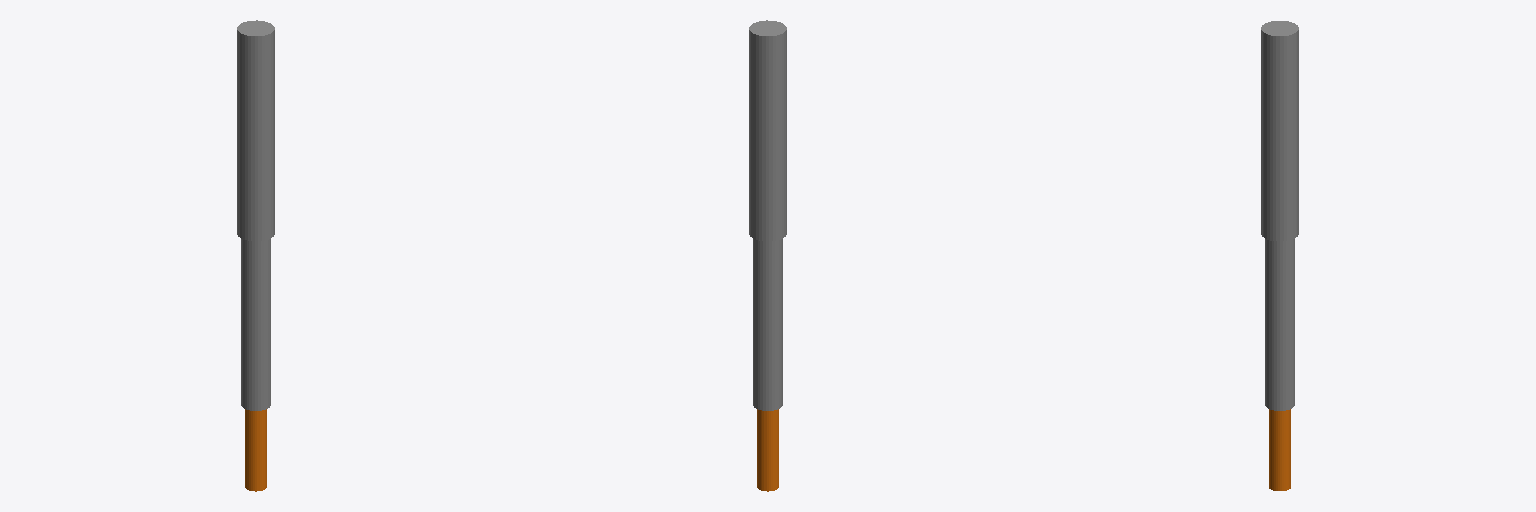
robot.urdf — upper_arm:
<?xml version="1.0"?>
<!--
  7-DOF single-arm kinematic model matching the hardware spec in CLAUDE.md section 2/4:
    shoulder_pitch, shoulder_roll  -> AK45 x2 (어깨 앞뒤/펼침)
    elbow                          -> AK45 x1 (팔꿈치)
    upper_arm_roll                -> MG996R x1 (상완 회전)
    wrist_yaw, wrist_pitch, wrist_roll -> MG996R x3 (손목 3축)
  Used by arm/ik.py via ikpy for inverse kinematics. Link lengths are placeholders
  until real arm dimensions are finalized by the 기구 설계 team.
  This chain is intentionally arm-only (7 joints): the 3-finger gripper exists only in
  arm/arm.xml (qpos[7:13]) and is driven by mujoco_receiver.py, not by IK.
-->
<robot name="upper_arm">

  <material name="grey">
    <color rgba="0.6 0.6 0.6 1"/>
  </material>
  <material name="orange">
    <color rgba="0.9 0.5 0.1 1"/>
  </material>

  <link name="base_link">
    <inertial>
      <mass value="0.5"/>
      <inertia ixx="0.001" ixy="0" ixz="0" iyy="0.001" iyz="0" izz="0.001"/>
    </inertial>
  </link>

  <link name="shoulder_pitch_link">
    <inertial>
      <mass value="0.1"/>
      <inertia ixx="0.0005" ixy="0" ixz="0" iyy="0.0005" iyz="0" izz="0.0005"/>
    </inertial>
  </link>
  <joint name="shoulder_pitch" type="revolute">
    <parent link="base_link"/>
    <child link="shoulder_pitch_link"/>
    <origin xyz="0 0 0" rpy="0 0 0"/>
    <axis xyz="0 1 0"/>
    <limit lower="-1.5708" upper="1.5708" effort="10" velocity="3"/>
  </joint>

  <link name="shoulder_roll_link">
    <inertial>
      <mass value="0.1"/>
      <inertia ixx="0.0005" ixy="0" ixz="0" iyy="0.0005" iyz="0" izz="0.0005"/>
    </inertial>
  </link>
  <joint name="shoulder_roll" type="revolute">
    <parent link="shoulder_pitch_link"/>
    <child link="shoulder_roll_link"/>
    <origin xyz="0 0 0" rpy="0 0 0"/>
    <axis xyz="1 0 0"/>
    <limit lower="-0.2" upper="1.8" effort="10" velocity="3"/>
  </joint>

  <link name="upper_arm_link">
    <visual>
      <origin xyz="0 0 -0.15" rpy="0 0 0"/>
      <geometry><cylinder radius="0.025" length="0.30"/></geometry>
      <material name="grey"/>
    </visual>
    <inertial>
      <mass value="0.3"/>
      <inertia ixx="0.003" ixy="0" ixz="0" iyy="0.003" iyz="0" izz="0.0005"/>
    </inertial>
  </link>
  <joint name="upper_arm_roll" type="revolute">
    <parent link="shoulder_roll_link"/>
    <child link="upper_arm_link"/>
    <origin xyz="0 0 0" rpy="0 0 0"/>
    <axis xyz="0 0 1"/>
    <limit lower="-3.1416" upper="3.1416" effort="10" velocity="3"/>
  </joint>

  <link name="forearm_link">
    <visual>
      <origin xyz="0 0 -0.125" rpy="0 0 0"/>
      <geometry><cylinder radius="0.02" length="0.25"/></geometry>
      <material name="grey"/>
    </visual>
    <inertial>
      <mass value="0.2"/>
      <inertia ixx="0.002" ixy="0" ixz="0" iyy="0.002" iyz="0" izz="0.0003"/>
    </inertial>
  </link>
  <joint name="elbow" type="revolute">
    <parent link="upper_arm_link"/>
    <child link="forearm_link"/>
    <origin xyz="0 0 -0.30" rpy="0 0 0"/>
    <axis xyz="0 1 0"/>
    <limit lower="0" upper="2.4435" effort="10" velocity="3"/>
  </joint>

  <link name="wrist_yaw_link">
    <inertial>
      <mass value="0.05"/>
      <inertia ixx="0.0002" ixy="0" ixz="0" iyy="0.0002" iyz="0" izz="0.0002"/>
    </inertial>
  </link>
  <joint name="wrist_yaw" type="revolute">
    <parent link="forearm_link"/>
    <child link="wrist_yaw_link"/>
    <origin xyz="0 0 -0.25" rpy="0 0 0"/>
    <axis xyz="0 0 1"/>
    <limit lower="-1.5708" upper="1.5708" effort="5" velocity="3"/>
  </joint>

  <link name="wrist_pitch_link">
    <inertial>
      <mass value="0.05"/>
      <inertia ixx="0.0002" ixy="0" ixz="0" iyy="0.0002" iyz="0" izz="0.0002"/>
    </inertial>
  </link>
  <joint name="wrist_pitch" type="revolute">
    <parent link="wrist_yaw_link"/>
    <child link="wrist_pitch_link"/>
    <origin xyz="0 0 0" rpy="0 0 0"/>
    <axis xyz="0 1 0"/>
    <limit lower="-1.5708" upper="1.5708" effort="5" velocity="3"/>
  </joint>

  <link name="wrist_roll_link">
    <visual>
      <origin xyz="0 0 -0.06" rpy="0 0 0"/>
      <geometry><cylinder radius="0.015" length="0.12"/></geometry>
      <material name="orange"/>
    </visual>
    <inertial>
      <mass value="0.05"/>
      <inertia ixx="0.0001" ixy="0" ixz="0" iyy="0.0001" iyz="0" izz="0.0001"/>
    </inertial>
  </link>
  <joint name="wrist_roll" type="revolute">
    <parent link="wrist_pitch_link"/>
    <child link="wrist_roll_link"/>
    <origin xyz="0 0 0" rpy="0 0 0"/>
    <axis xyz="1 0 0"/>
    <limit lower="-3.1416" upper="3.1416" effort="5" velocity="3"/>
  </joint>

  <link name="end_effector_link"/>
  <joint name="end_effector_fixed" type="fixed">
    <parent link="wrist_roll_link"/>
    <child link="end_effector_link"/>
    <origin xyz="0 0 -0.12" rpy="0 0 0"/>
  </joint>

</robot>

--- Facts derived from the render (not from the file) ---
Views: 3 orthographic renders of the robot side by side, from view 1: azimuth 30°, elevation 25°; view 2: azimuth 150°, elevation 25°; view 3: azimuth 270°, elevation 25°.
Model upper_arm with 9 links and 8 joints (7 revolute, 1 fixed), rooted at base_link, posed all joints at 0.
Links seen in each view (by area): view 1: upper_arm_link, forearm_link, wrist_roll_link; view 2: upper_arm_link, forearm_link, wrist_roll_link; view 3: upper_arm_link, forearm_link, wrist_roll_link.
Boxes of the visible links, x1=… form: upper_arm_link: x1=237, y1=20, x2=274, y2=241; forearm_link: x1=241, y1=239, x2=270, y2=410; wrist_roll_link: x1=245, y1=409, x2=266, y2=491; upper_arm_link: x1=749, y1=20, x2=786, y2=241; forearm_link: x1=753, y1=239, x2=782, y2=410; wrist_roll_link: x1=757, y1=409, x2=778, y2=491; upper_arm_link: x1=1261, y1=21, x2=1298, y2=241; forearm_link: x1=1265, y1=239, x2=1294, y2=410; wrist_roll_link: x1=1269, y1=409, x2=1290, y2=490.
Size in the robot's own frame: 0.05 by 0.05 by 0.67 metres.
Geometry: primitives only (box / cylinder / sphere), no mesh files.
